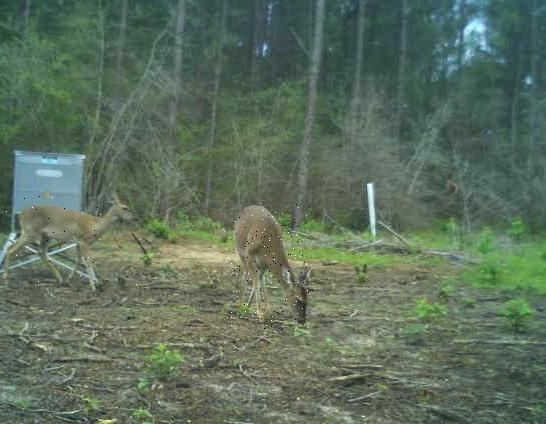Deer: (0, 190, 142, 296), (231, 203, 314, 331)
